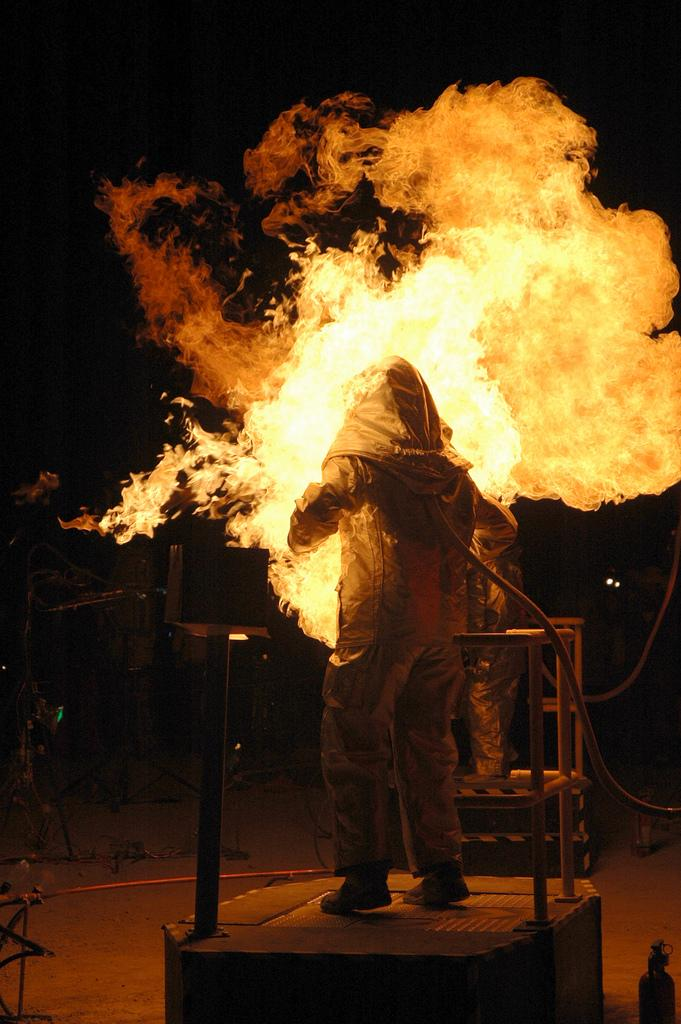fire: (440, 118, 662, 480), (220, 288, 370, 510)
